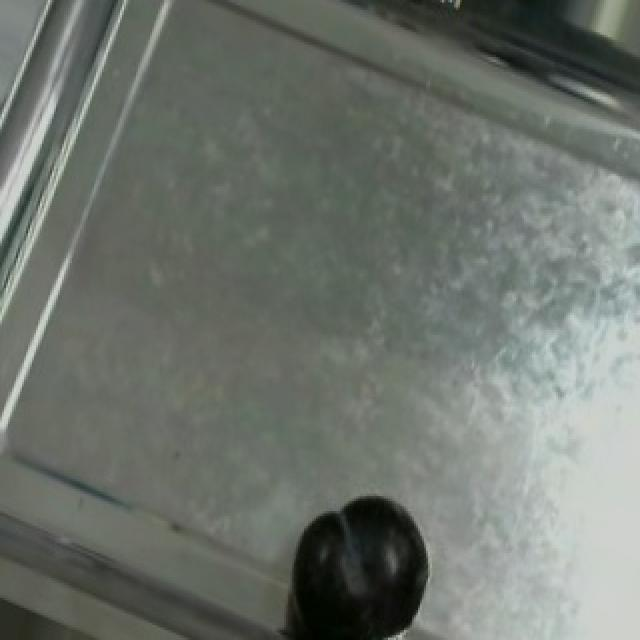Fruit: (274, 479, 438, 640)
